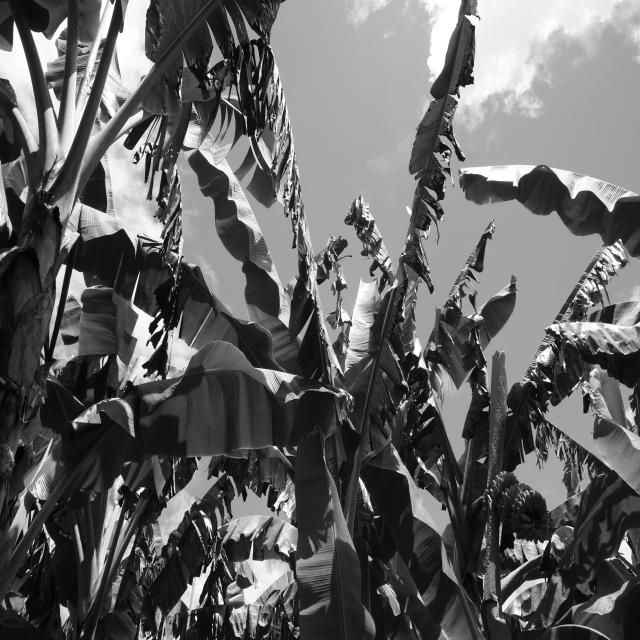Banana-plant: (0, 57, 112, 559)
